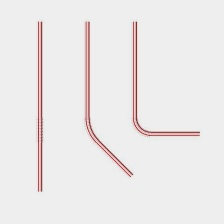drinking_straw: (69, 19, 138, 181), (124, 18, 203, 141), (28, 17, 52, 197)
